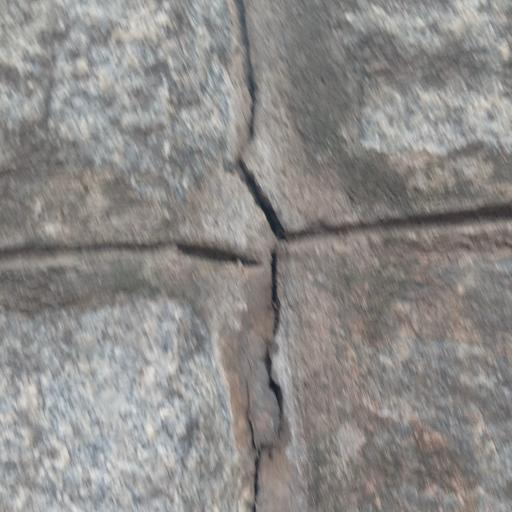major_crack: (218, 0, 311, 512), (4, 227, 264, 277), (278, 195, 512, 244)
